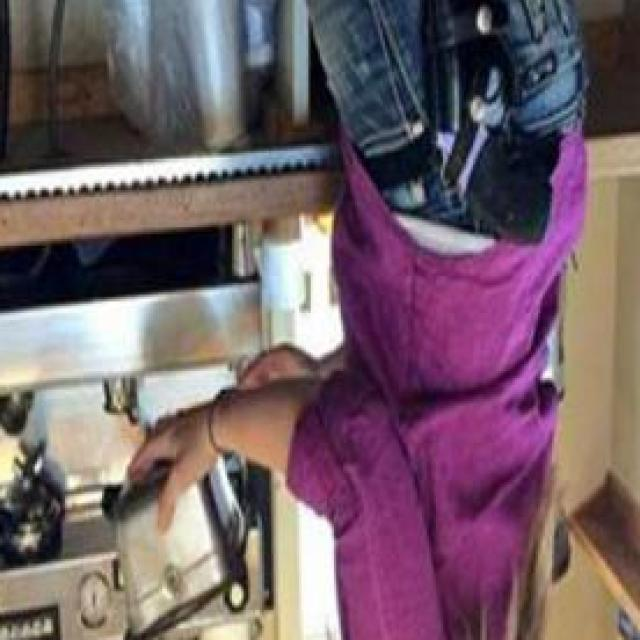pistol: (410, 0, 559, 241)
